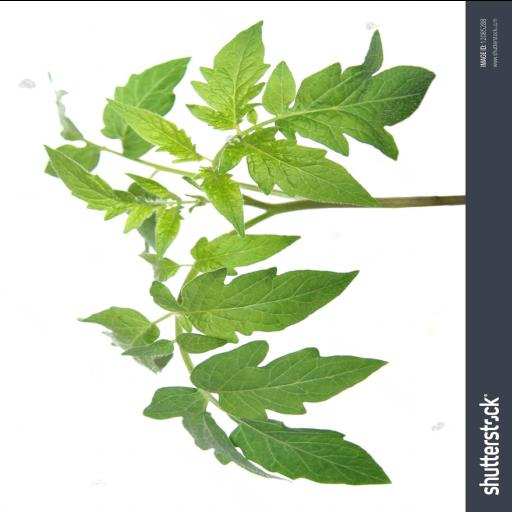Healthy: (260, 28, 436, 160), (190, 339, 388, 421), (150, 266, 360, 342), (142, 386, 292, 482), (216, 124, 382, 206), (228, 418, 392, 485), (184, 19, 271, 131), (42, 144, 136, 220), (106, 96, 204, 164), (190, 234, 302, 276), (190, 166, 246, 238)
